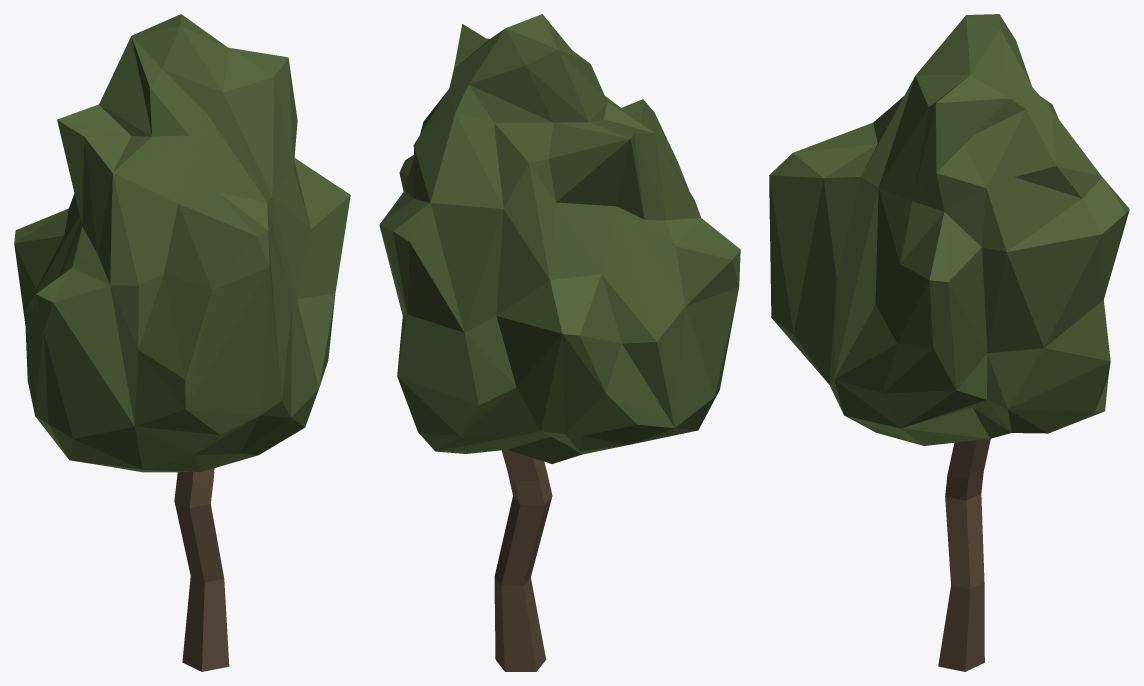
File: Tree_095.fbx
3 views of the same model, side by side, from view 1: azimuth 30°, elevation 25°; view 2: azimuth 150°, elevation 25°; view 3: azimuth 270°, elevation 25° (orthographic). The views are drawn at different scales.
Parts seen in each view (by area): view 1: Tree_095; view 2: Tree_095; view 3: Tree_095.
Boxes of the visible parts, x1=… form: Tree_095: x1=14, y1=14, x2=350, y2=671; Tree_095: x1=379, y1=14, x2=740, y2=671; Tree_095: x1=769, y1=14, x2=1129, y2=671.
Bounding box in the file's own units: 0.5538 × 1.07 × 0.5503.
Materials: 1 (1 with a texture image).
